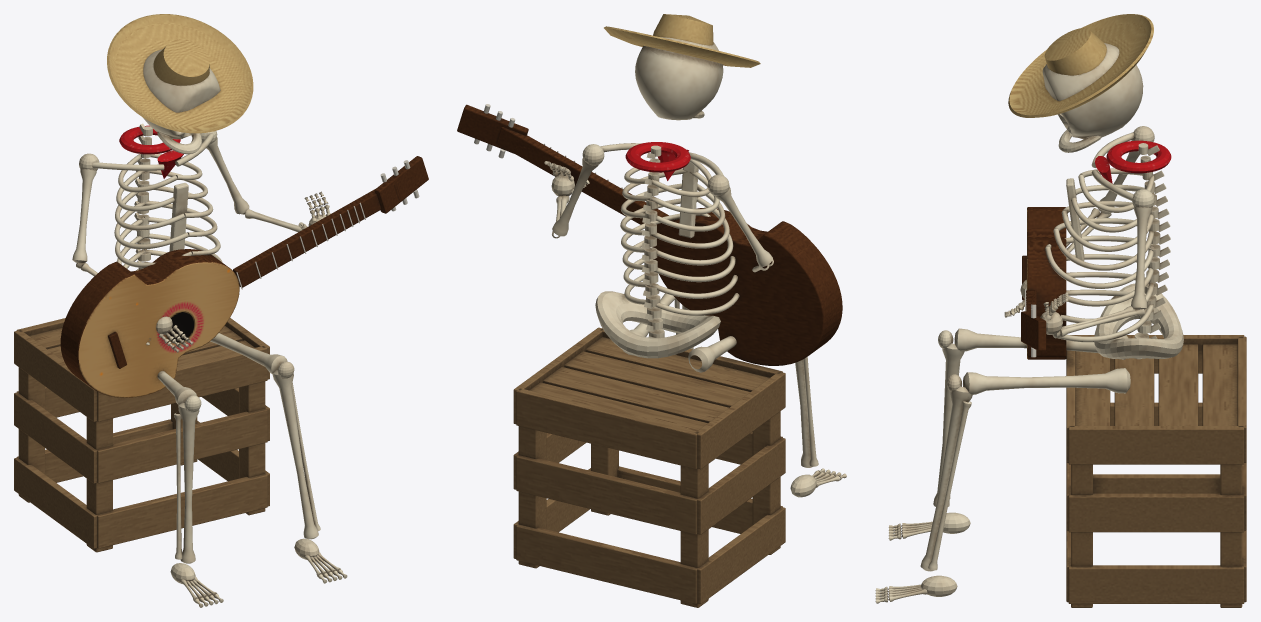
File: w6_skeleton_guitarist.glb
3 renders of one model, left to right at view 1: azimuth 30°, elevation 25°; view 2: azimuth 150°, elevation 25°; view 3: azimuth 270°, elevation 25°, orthographic. The views are drawn at different scales.
Visible parts, largest first — view 1: w6_skeleton_guitarist; view 2: w6_skeleton_guitarist; view 3: w6_skeleton_guitarist.
Part boxes in pixels (box(x1,y1,x2,y2)): w6_skeleton_guitarist: box(14, 14, 428, 607); w6_skeleton_guitarist: box(457, 14, 846, 607); w6_skeleton_guitarist: box(875, 14, 1246, 607).
Bounding box in the file's own units: 1.03 × 1.35 × 0.845.
Materials: 1 (1 with a texture image).
